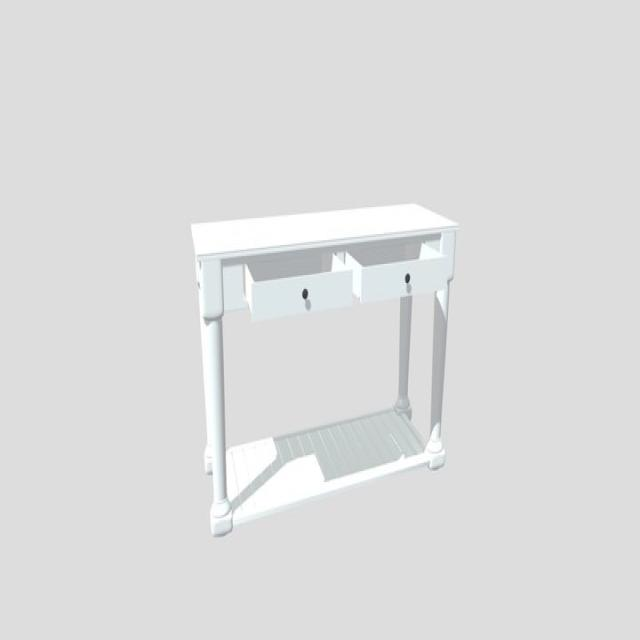table: (190, 198, 457, 538)
